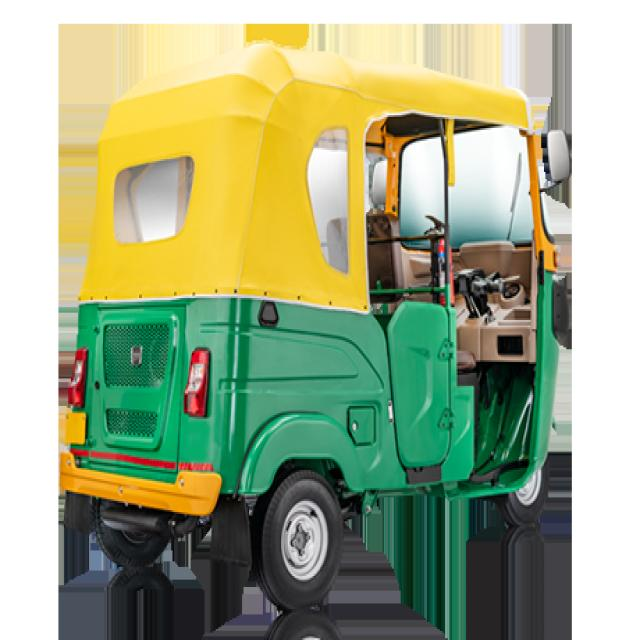autorickshaw: (60, 43, 570, 610)
